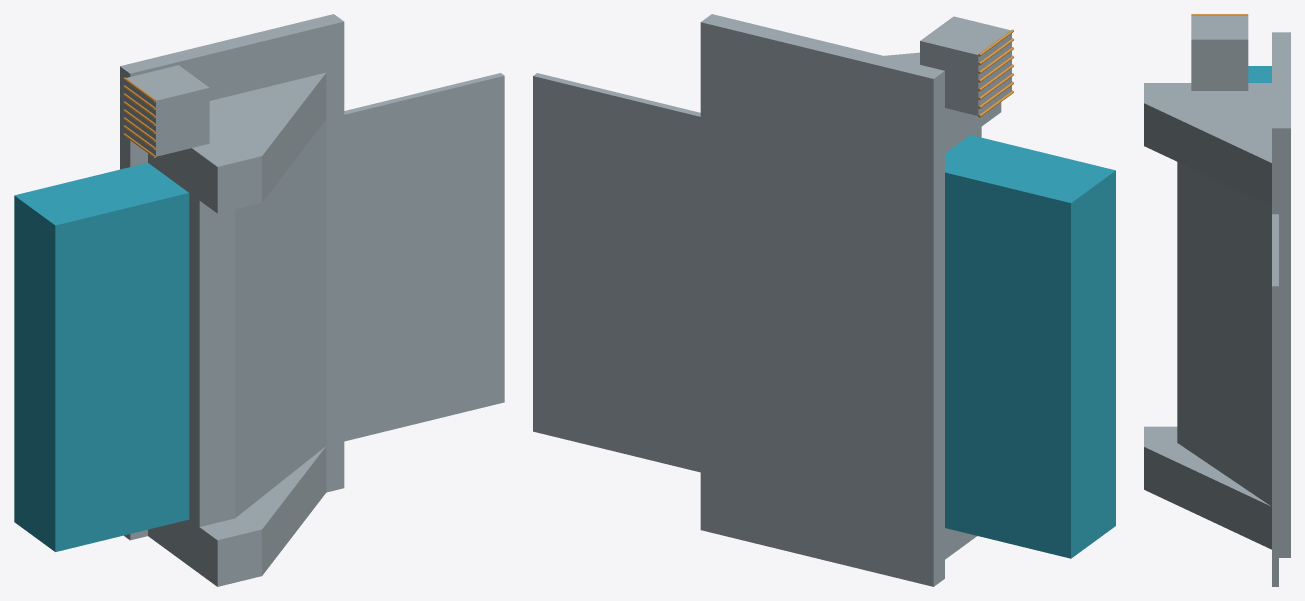
Rendered from presa.obj.
The picture shows the model from 3 angles, left to right: view 1: azimuth 30°, elevation 25°; view 2: azimuth 150°, elevation 25°; view 3: azimuth 270°, elevation 25°; orthographic projection. The views are drawn at different scales.
Visible parts, largest first — view 1: Agua_aguas_arriba, Solera_disipacion, Vertedero_central, Cimentacion_conceptual, Estribo_derecho, Estribo_izquierdo, Bocatoma_conceptual, Rejilla; view 2: Cimentacion_conceptual, Agua_aguas_arriba, Solera_disipacion, Bocatoma_conceptual, Estribo_derecho, Rejilla; view 3: Vertedero_central, Estribo_derecho, Cimentacion_conceptual, Estribo_izquierdo, Bocatoma_conceptual, Solera_disipacion, Agua_aguas_arriba.
Boxes of the visible parts, <box> form: Agua_aguas_arriba: <box>14,163,189,551</box>; Solera_disipacion: <box>326,73,504,444</box>; Vertedero_central: <box>189,120,326,526</box>; Cimentacion_conceptual: <box>120,14,344,540</box>; Estribo_derecho: <box>148,72,326,213</box>; Estribo_izquierdo: <box>148,446,326,586</box>; Bocatoma_conceptual: <box>125,65,209,156</box>; Rejilla: <box>123,77,156,157</box>; Cimentacion_conceptual: <box>700,14,944,586</box>; Agua_aguas_arriba: <box>945,135,1115,558</box>; Solera_disipacion: <box>533,73,700,472</box>; Bocatoma_conceptual: <box>920,16,1011,115</box>; Estribo_derecho: <box>884,52,1001,152</box>; Rejilla: <box>978,29,1013,117</box>; Vertedero_central: <box>1177,162,1271,506</box>; Estribo_derecho: <box>1144,83,1271,205</box>; Cimentacion_conceptual: <box>1272,32,1290,557</box>; Estribo_izquierdo: <box>1144,426,1271,549</box>; Bocatoma_conceptual: <box>1191,15,1248,90</box>; Solera_disipacion: <box>1272,214,1278,586</box>; Agua_aguas_arriba: <box>1248,66,1271,82</box>.
Size of the model in its own units: 11 by 10.23 by 3.1.
